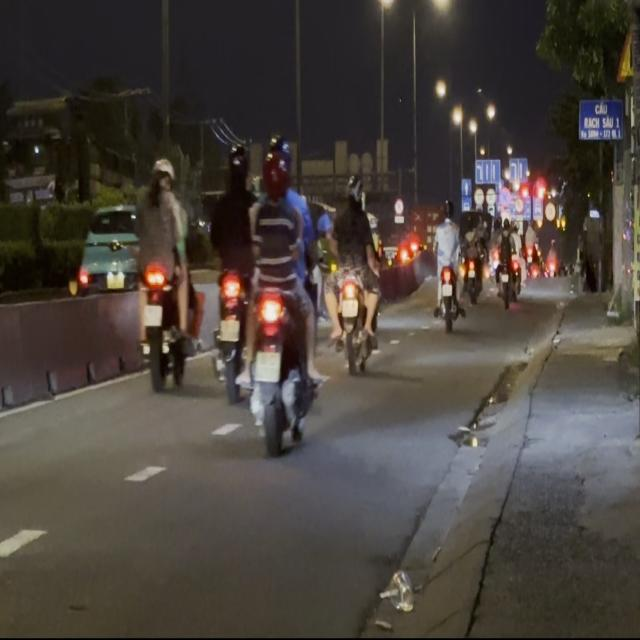helmet: (261, 146, 287, 197), (226, 139, 248, 184), (274, 137, 292, 185), (150, 155, 173, 192)
licenseplate: (246, 133, 322, 454), (134, 153, 200, 390), (207, 134, 256, 412)
nohelmet: (254, 351, 279, 380), (219, 318, 239, 340), (143, 304, 162, 326)
